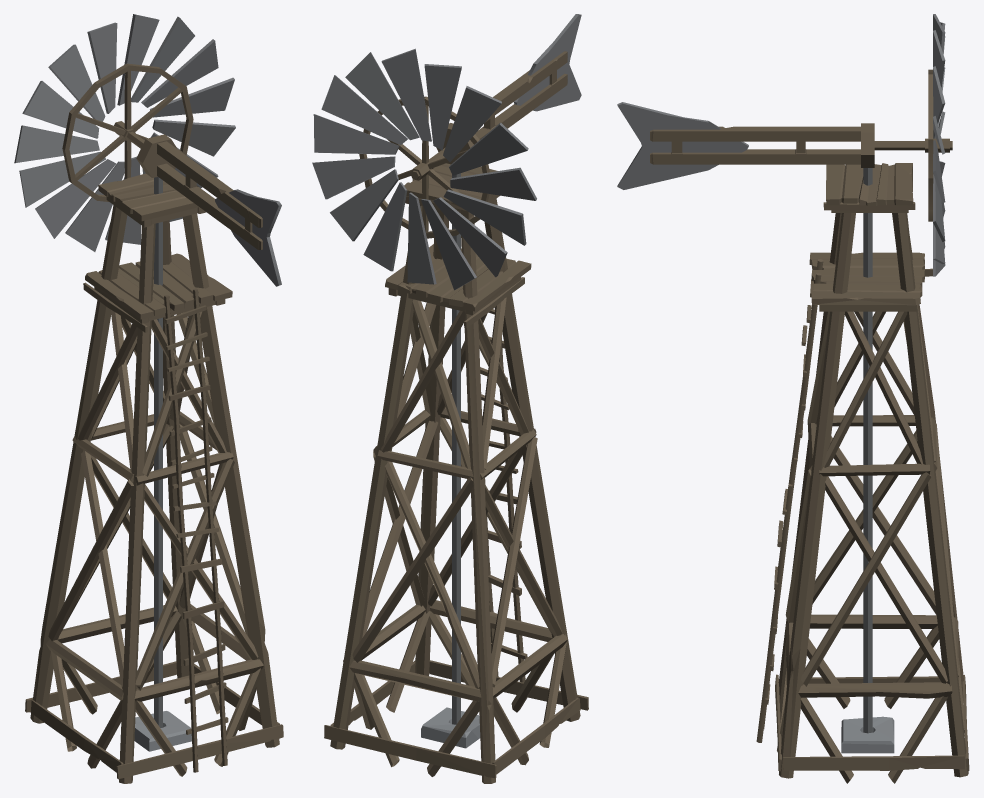
File: SM_Bld_Windmill_01.fbx
3 renders of one model, left to right at view 1: azimuth 30°, elevation 25°; view 2: azimuth 150°, elevation 25°; view 3: azimuth 270°, elevation 25°, orthographic. The views are drawn at different scales.
Visible parts, largest first — view 1: SM_Bld_Windmill_01, SM_Bld_WindmillTop_01, SM_Bld_Windmill_Spin_01; view 2: SM_Bld_Windmill_01, SM_Bld_WindmillTop_01, SM_Bld_Windmill_Spin_01; view 3: SM_Bld_Windmill_01, SM_Bld_Windmill_Spin_01, SM_Bld_WindmillTop_01.
Boxes of the visible parts, x1,y1,x2,y2 form: SM_Bld_Windmill_01: (25, 173, 283, 783); SM_Bld_WindmillTop_01: (14, 14, 235, 251); SM_Bld_Windmill_Spin_01: (127, 131, 281, 727); SM_Bld_Windmill_01: (324, 163, 588, 783); SM_Bld_WindmillTop_01: (312, 48, 536, 290); SM_Bld_Windmill_Spin_01: (410, 14, 581, 724); SM_Bld_Windmill_01: (756, 163, 969, 783); SM_Bld_Windmill_Spin_01: (617, 102, 952, 733); SM_Bld_WindmillTop_01: (925, 14, 949, 276).
Bounding box in the file's own units: 377 × 1143 × 506.
1 material, 1 textured.
